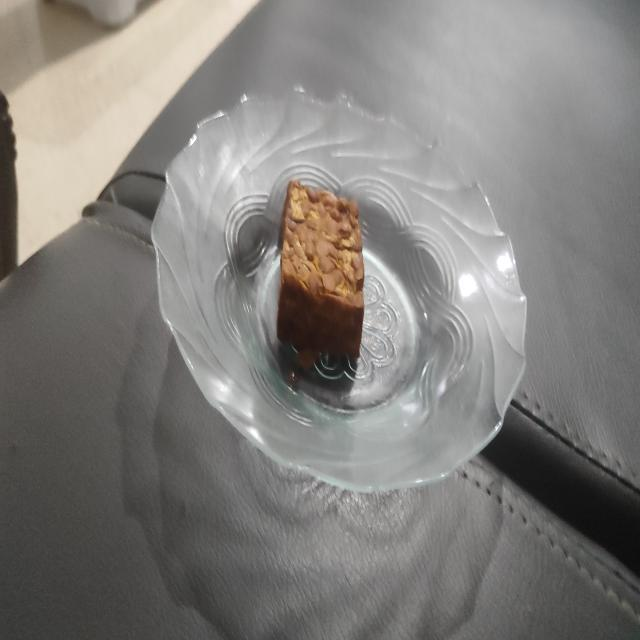tempe_goreng: (277, 180, 364, 367)
